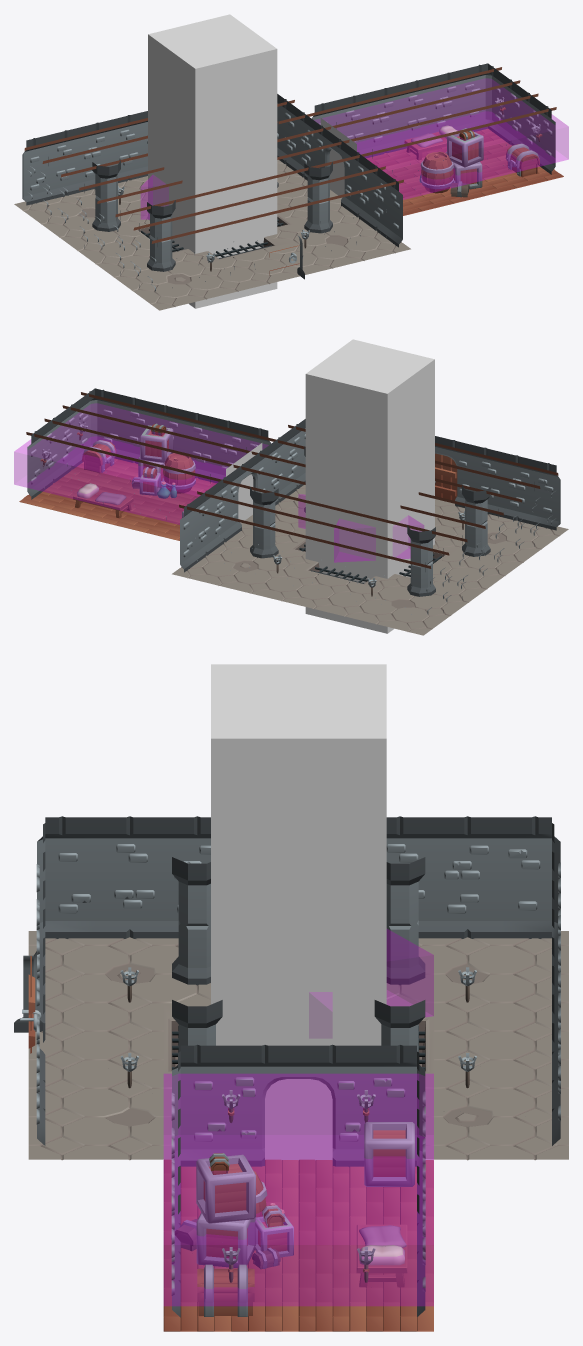
The model's file is level29.glb.
3 views of the same model, one above another, from view 1: azimuth 30°, elevation 25°; view 2: azimuth 150°, elevation 25°; view 3: azimuth 270°, elevation 25° (orthographic). The views are drawn at different scales.
Visible parts, largest first — view 1: arx_zone__101__spawn, arx_zone__inroom, wall.001, wall.011, box_stacked, wall.008, wall_corner.008, wall.012, floor_tile_extralarge_grates, wall.010, wall.002, wall.015 (+58 smaller); view 2: arx_zone__101__spawn, arx_zone__inroom, wall.009, box_stacked, wall.013, wall.010, floor_tile_extralarge_grates, wall.014, arx_zone__center_ish_part, wall.015, wall_corner.007, wall.012 (+59 smaller); view 3: arx_zone__101__spawn, arx_zone__inroom, wall.006, wall.004, wall_doorway.004, box_stacked, floor_wood_large.006, wall_corner.001, wall_corner.002, wall_corner.006, arx_portal__hall__room_1__a, floor_wood_large.002 (+48 smaller).
Boxes of the visible parts, x1,y1,x2,y2 form: arx_zone__101__spawn: (148, 14, 277, 308); arx_zone__inroom: (314, 79, 568, 199); wall.001: (47, 119, 112, 199); wall.011: (399, 69, 464, 149); box_stacked: (419, 128, 483, 197); wall.008: (336, 84, 401, 158); wall_corner.008: (462, 63, 505, 137); wall.012: (349, 146, 389, 237); floor_tile_extralarge_grates: (118, 210, 311, 268); wall.010: (277, 94, 316, 180); wall.002: (110, 111, 147, 182); wall.015: (501, 73, 541, 158); arx_zone__101__spawn: (305, 339, 434, 633); arx_zone__inroom: (14, 404, 268, 524); wall.009: (470, 444, 535, 524); box_stacked: (131, 423, 195, 498); wall.013: (181, 409, 246, 483); wall.010: (193, 471, 233, 562); floor_tile_extralarge_grates: (271, 534, 464, 593); wall.014: (118, 394, 183, 463); arx_zone__center_ish_part: (298, 494, 423, 562); wall.015: (41, 398, 81, 489); wall_corner.007: (77, 388, 120, 462); wall.012: (266, 419, 305, 505); arx_zone__101__spawn: (211, 664, 386, 1045); arx_zone__inroom: (164, 1074, 433, 1305); wall.006: (386, 816, 501, 938); wall.004: (96, 816, 210, 938); wall_doorway.004: (231, 1044, 366, 1166); box_stacked: (171, 1153, 293, 1269); floor_wood_large.006: (298, 1273, 433, 1331); wall_corner.001: (501, 816, 560, 950); wall_corner.002: (36, 816, 95, 950); wall_corner.006: (171, 1044, 231, 1179); arx_portal__hall__room_1__a: (231, 1038, 366, 1159); floor_wood_large.002: (298, 1159, 433, 1217).
Size of the model in its own units: 28.31 by 14.56 by 16.43.
Materials: 19 (17 with a texture image).
